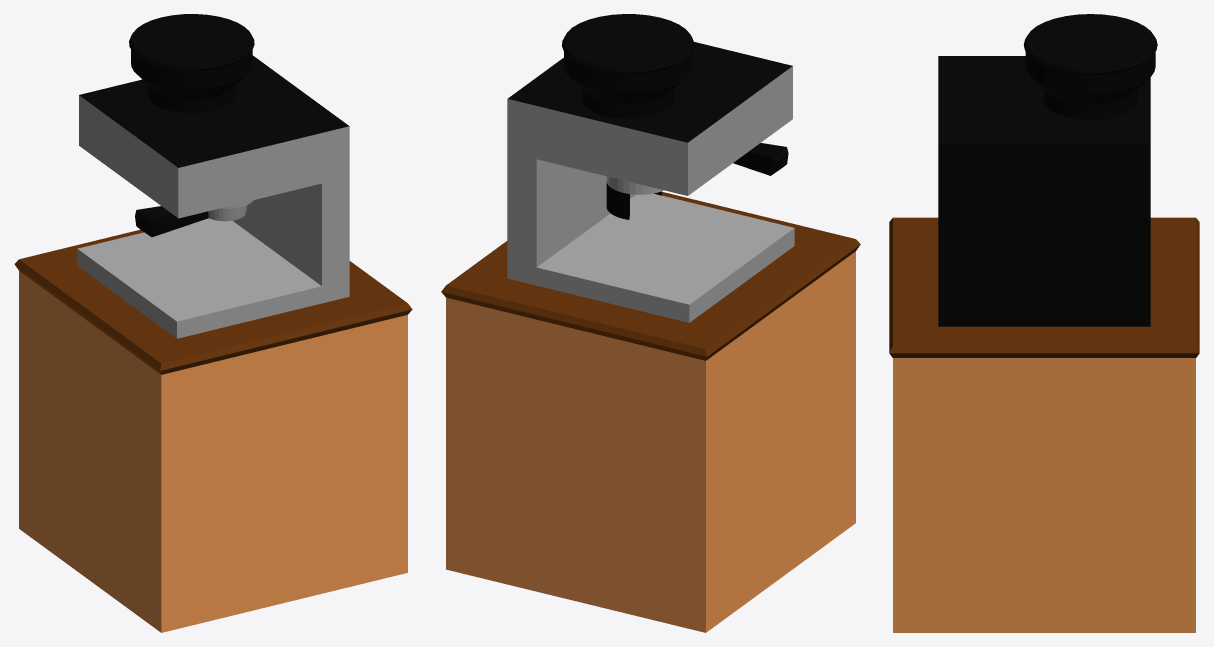
The model's file is CoffeeMachine.fbx.
3 renders of one model, left to right at view 1: azimuth 30°, elevation 25°; view 2: azimuth 150°, elevation 25°; view 3: azimuth 270°, elevation 25°, orthographic. The views are drawn at different scales.
Parts seen in each view (by area): view 1: CoffeeMachine; view 2: CoffeeMachine; view 3: CoffeeMachine.
Boxes of the visible parts, <box> form: CoffeeMachine: <box>14,14,412,632</box>; CoffeeMachine: <box>441,14,860,632</box>; CoffeeMachine: <box>889,14,1199,632</box>.
Bounding box in the file's own units: 205 × 384 × 205.
